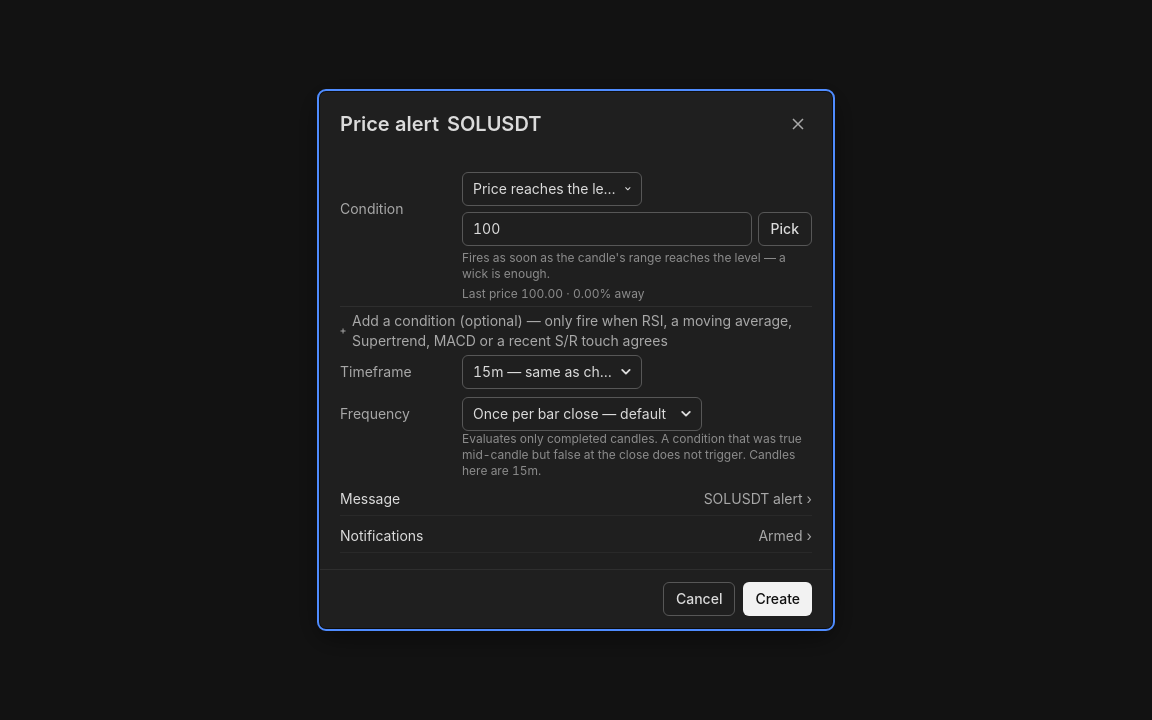
Scenario: the frequency explains what it evaluates, and warns when it stops waiting for the close
What coordinates should you click on to do the following:
click the button with aria-label "Frequency"
I would click on:
 (582, 414)
Its box is [462,397,702,431].
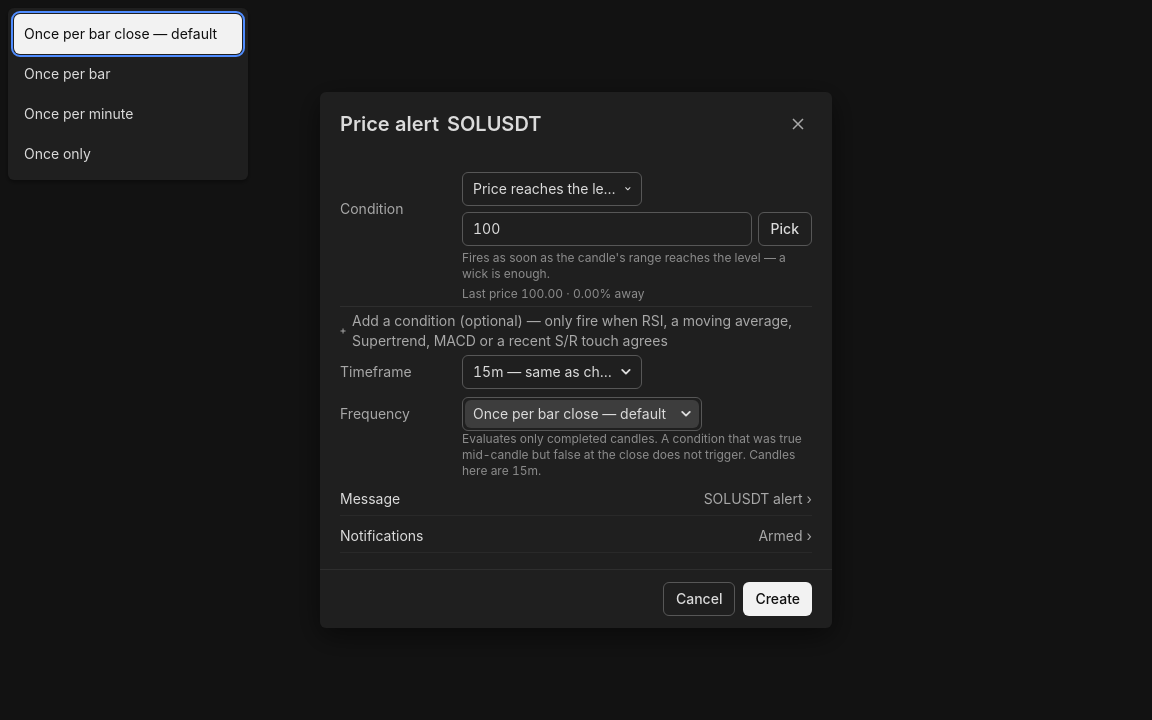
What coordinates should you click on to do the following:
click the option "Once per bar"
I would click on:
 (128, 74)
Its box is [14,54,242,94].
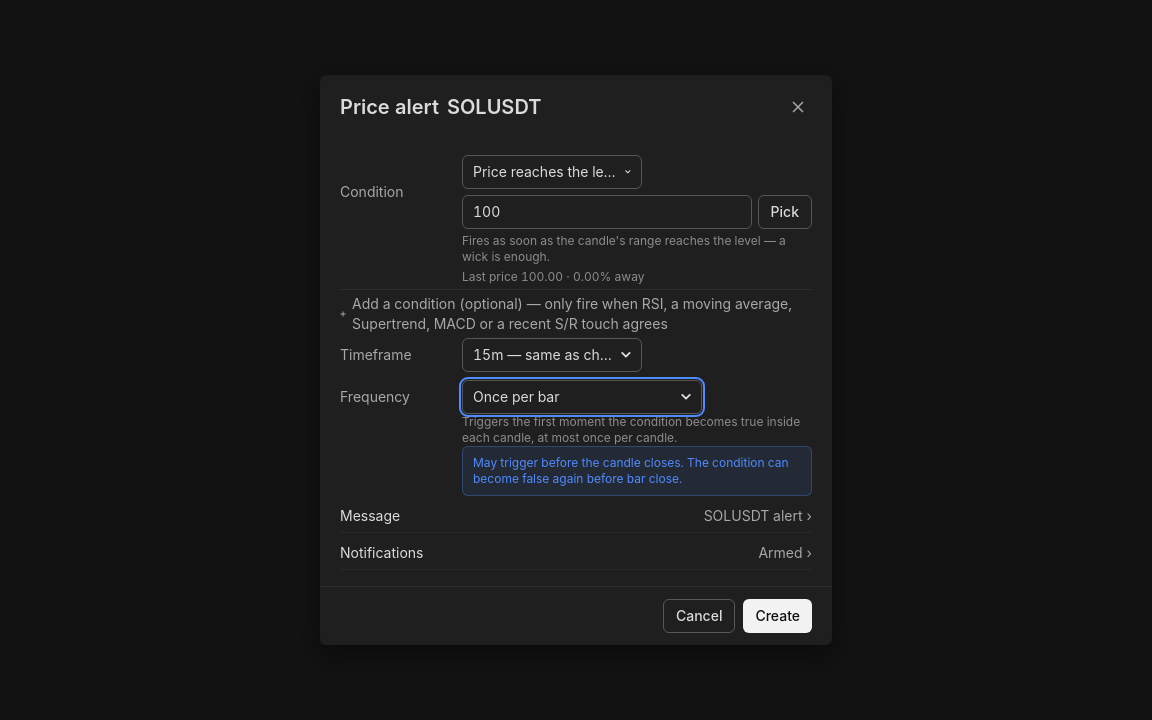
expect the text "Triggers the first moment the condition becomes true inside each candle" is shown: met, box [462,414,800,445]
expect the text "May trigger before the candle closes. The condition can become false again before bar close." is shown: met, box [473,455,789,486]
